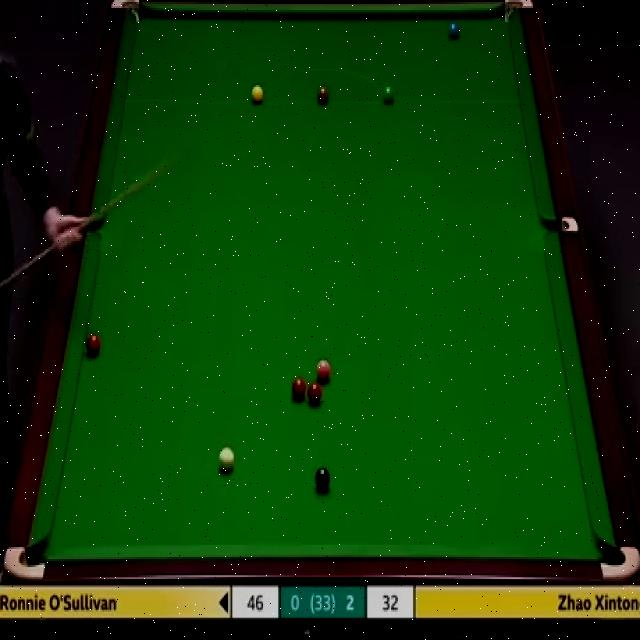black-ball: (314, 467, 330, 488)
blue-ball: (446, 21, 462, 41)
brown-ball: (316, 87, 330, 104)
green-ball: (381, 83, 396, 107)
pink-ball: (315, 359, 332, 382)
red-ball: (287, 390, 303, 414), (308, 382, 322, 409), (291, 377, 306, 400), (85, 334, 102, 354)
white-ball: (216, 446, 237, 474)
yellow-ball: (250, 84, 264, 105)
